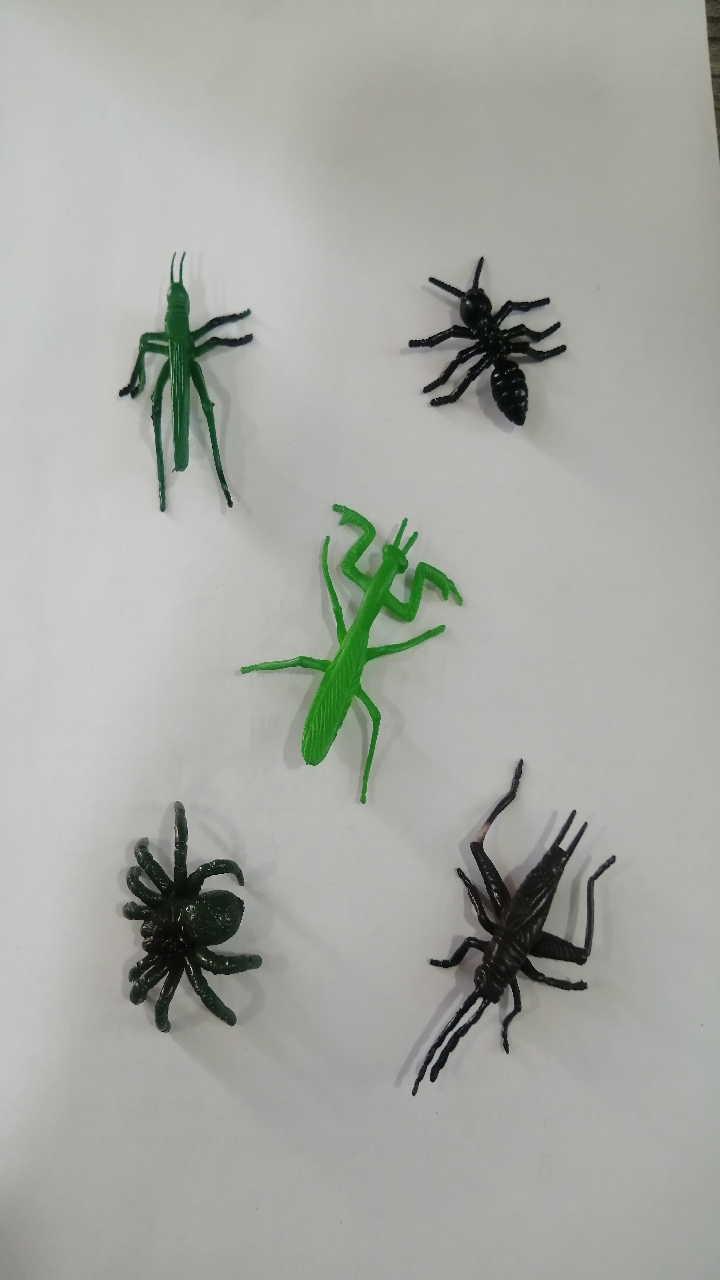intruso: (398, 734, 624, 1112), (228, 482, 461, 829), (74, 215, 261, 560), (80, 780, 289, 1077), (389, 217, 586, 443)
